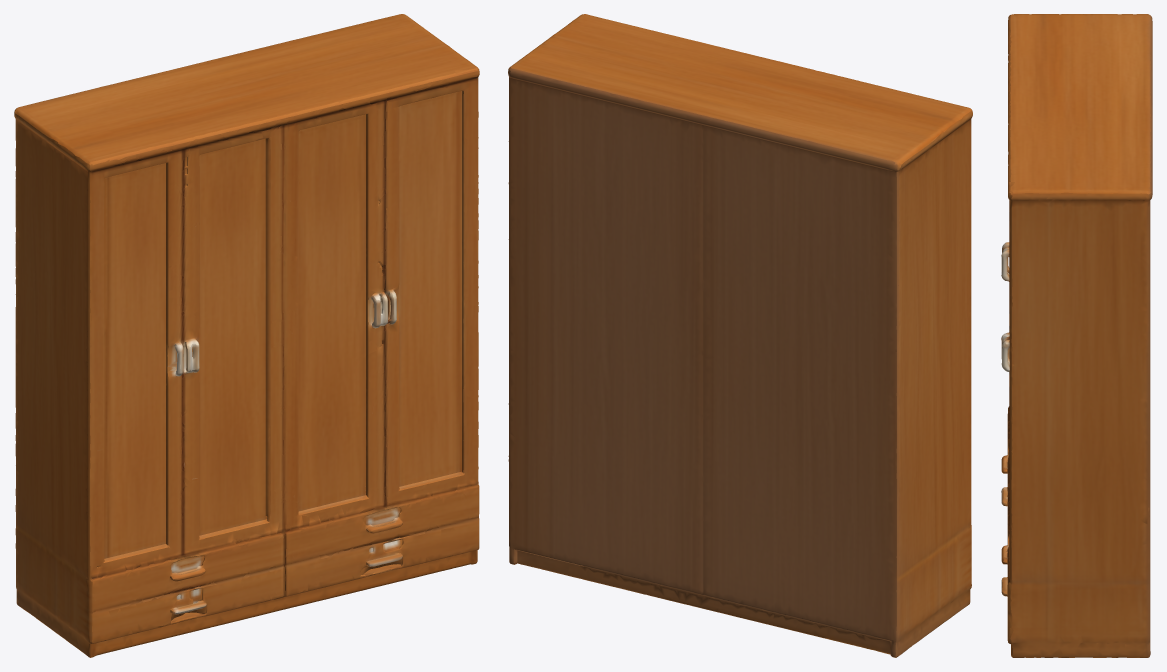
The model's file is item_749794c8.glb.
The picture shows the model from 3 angles, left to right: view 1: azimuth 30°, elevation 25°; view 2: azimuth 150°, elevation 25°; view 3: azimuth 270°, elevation 25°; orthographic projection. The views are drawn at different scales.
Parts seen in each view (by area): view 1: world; view 2: world; view 3: world.
Boxes of the visible parts, x1,y1,x2,y2 form: world: (14,14,479,657); world: (508,14,972,657); world: (1001,14,1152,657).
Size of the model in its own units: 2 by 2.42 by 0.7092.
Materials: 1 (1 with a texture image).
